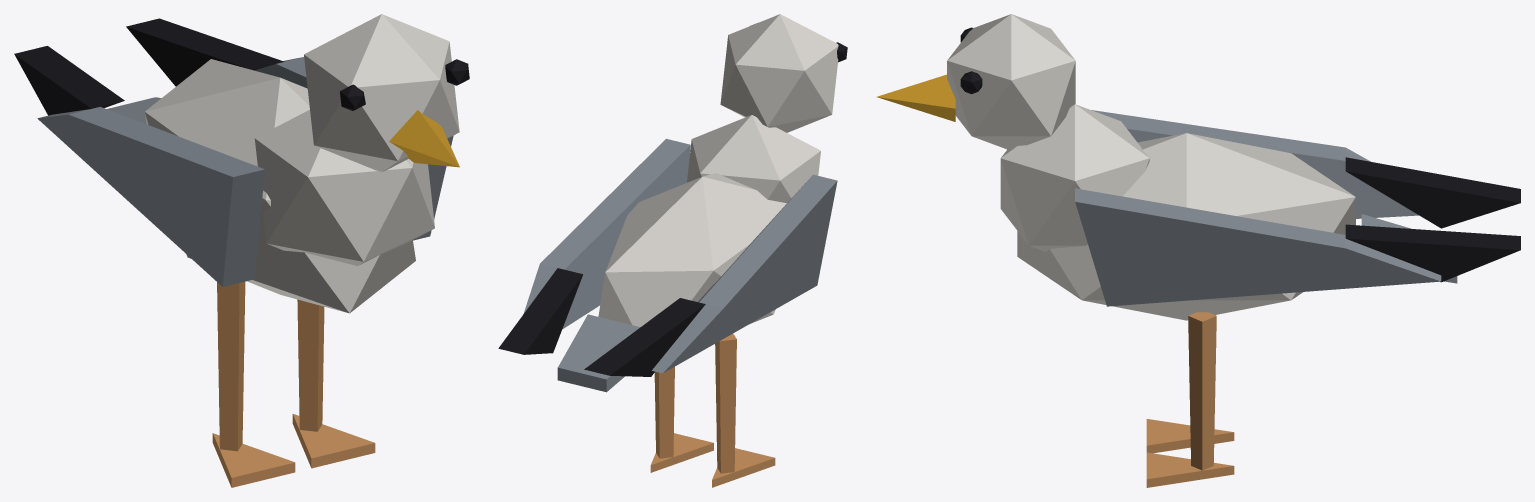
Rendered from Gull_Perch.glb.
3 renders of one model, left to right at view 1: azimuth 30°, elevation 25°; view 2: azimuth 150°, elevation 25°; view 3: azimuth 270°, elevation 25°, orthographic. The views are drawn at different scales.
Visible parts, largest first — view 1: Gull_Perch; view 2: Gull_Perch; view 3: Gull_Perch.
Part boxes in pixels (box(x1,y1,x2,y2)): Gull_Perch: box(14, 14, 469, 487); Gull_Perch: box(498, 14, 847, 487); Gull_Perch: box(877, 14, 1520, 487).
Bounding box in the file's own units: 0.3 × 0.615 × 0.81.
